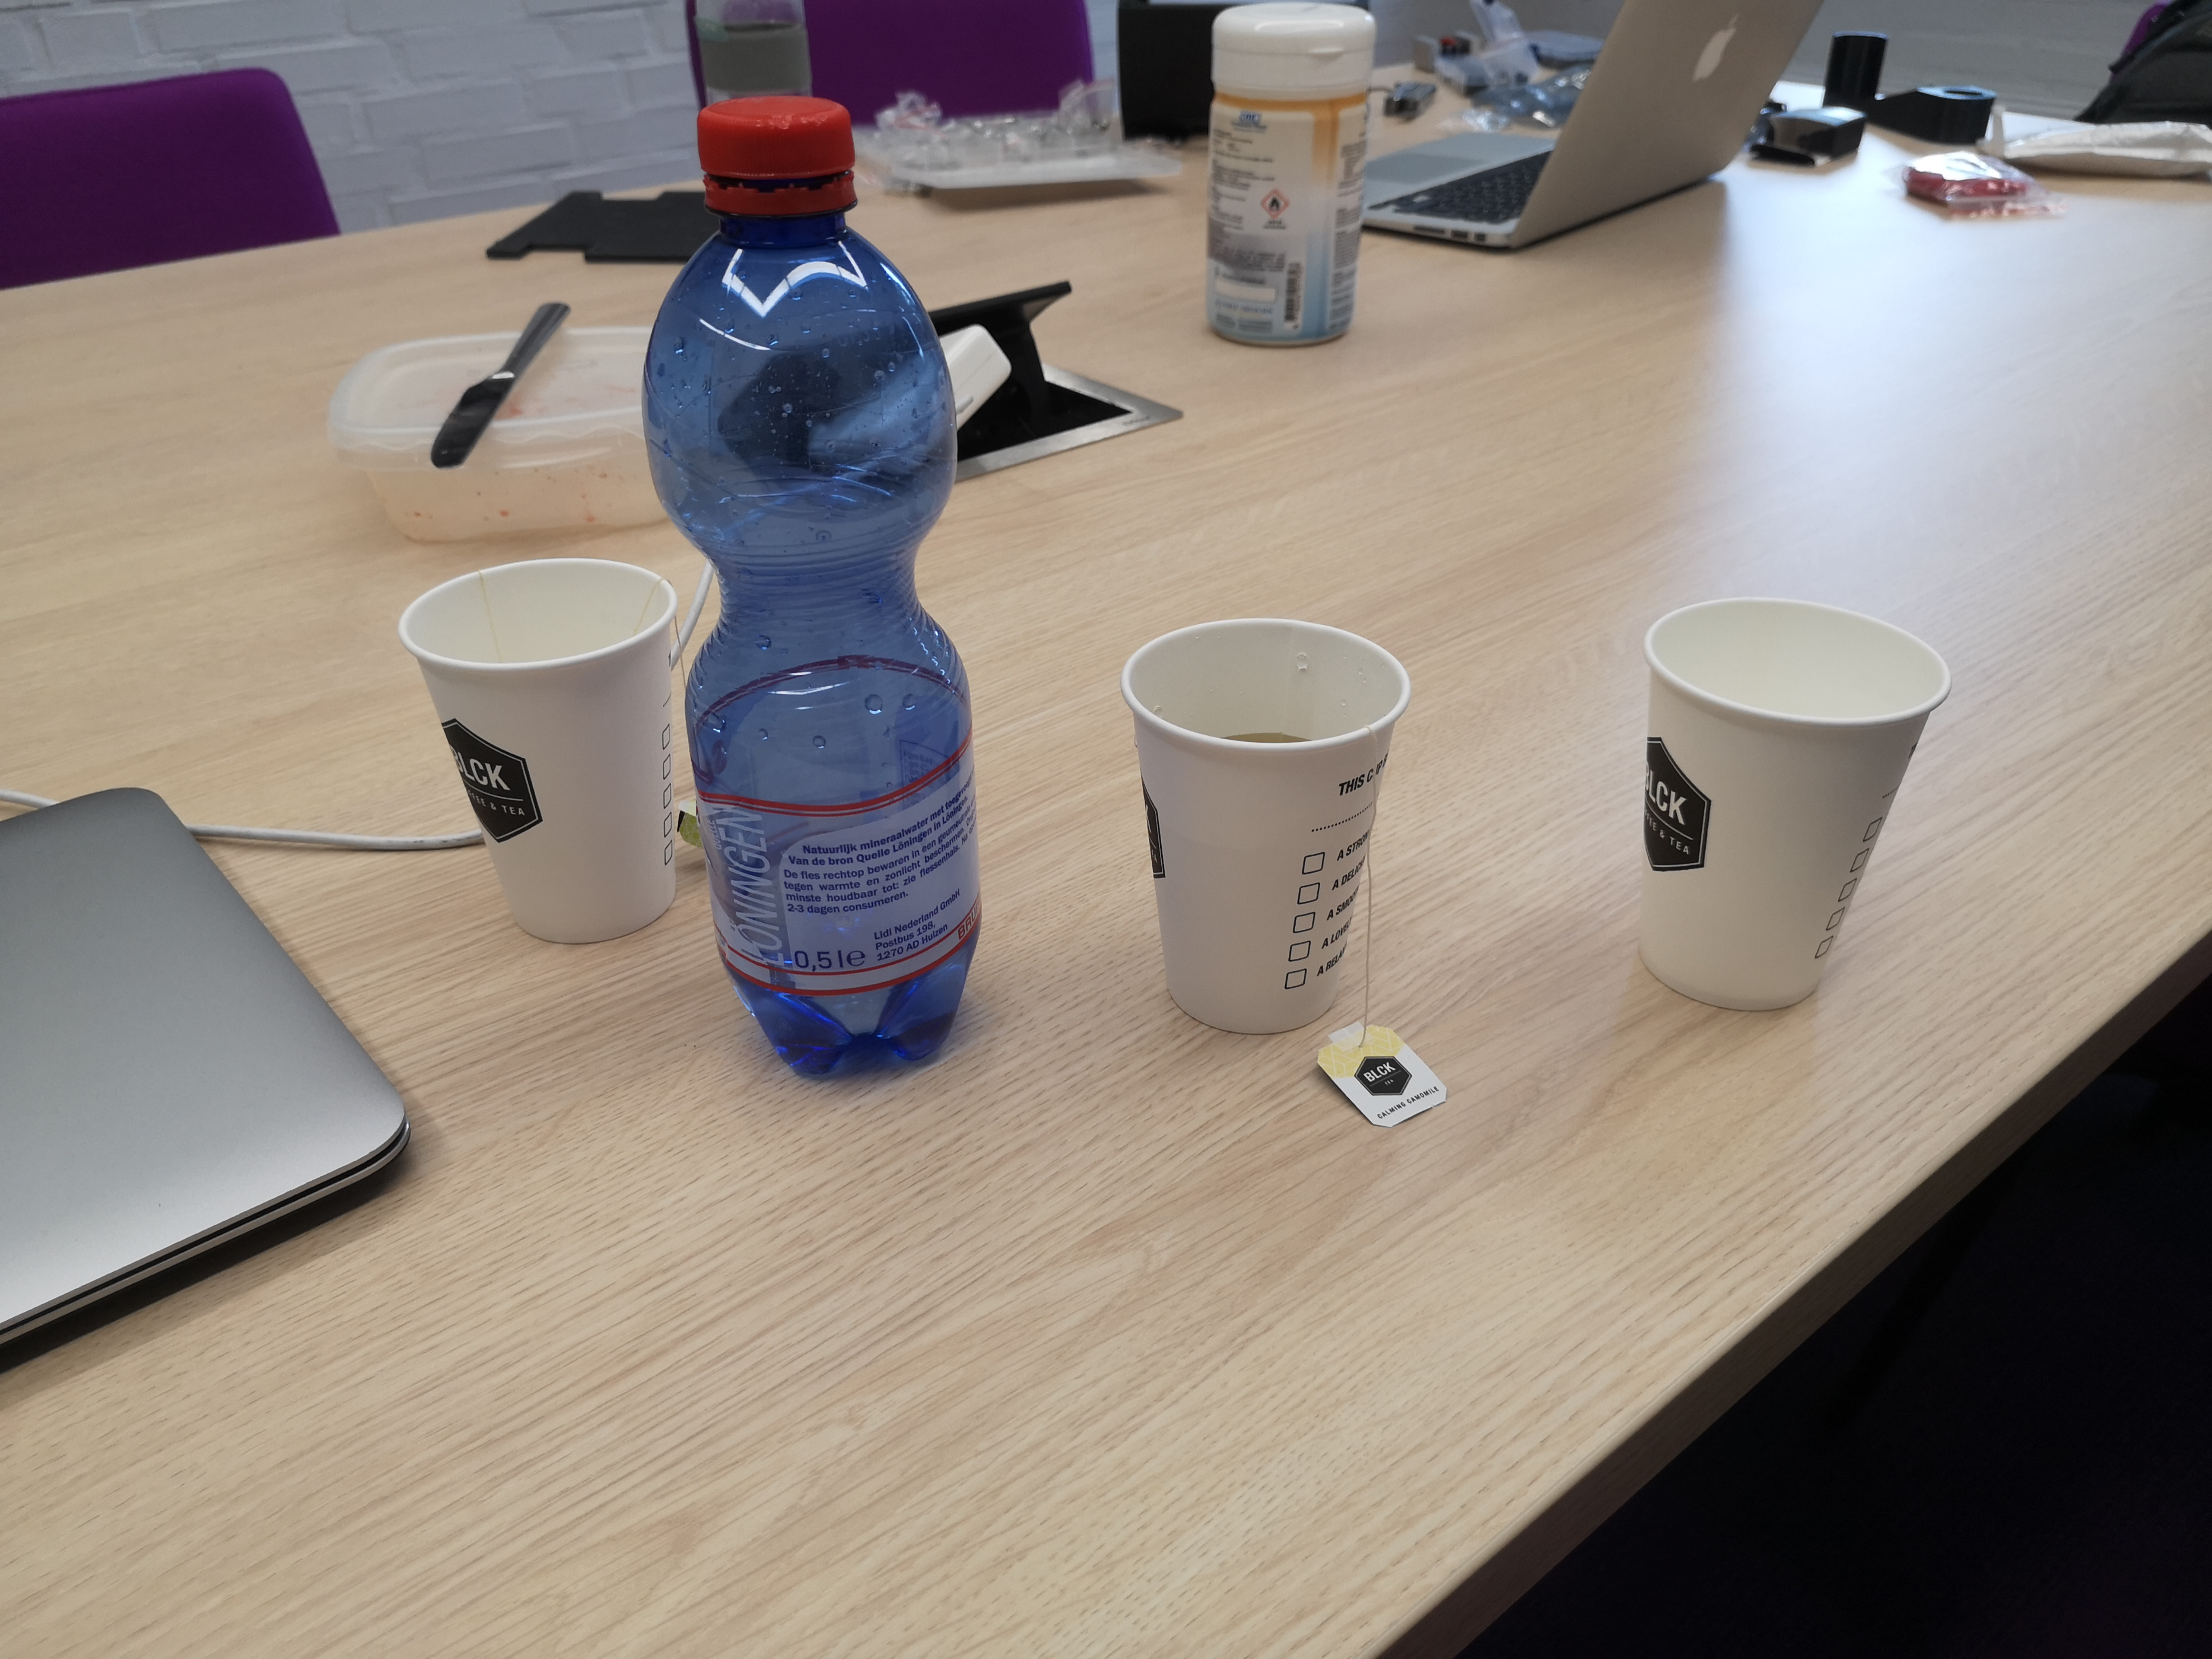cup: (1622, 584, 1968, 1051), (1118, 610, 1425, 1072), (369, 545, 691, 969)
plastic_bottle: (632, 70, 1026, 1100)
